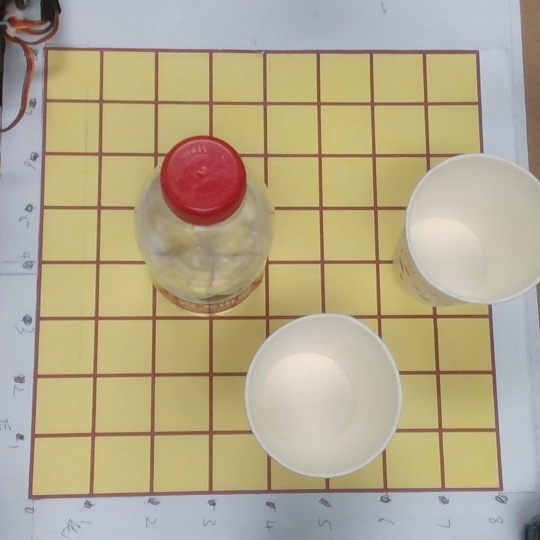bottle: (125, 135, 276, 332)
cup: (236, 312, 403, 483), (385, 154, 540, 308)
